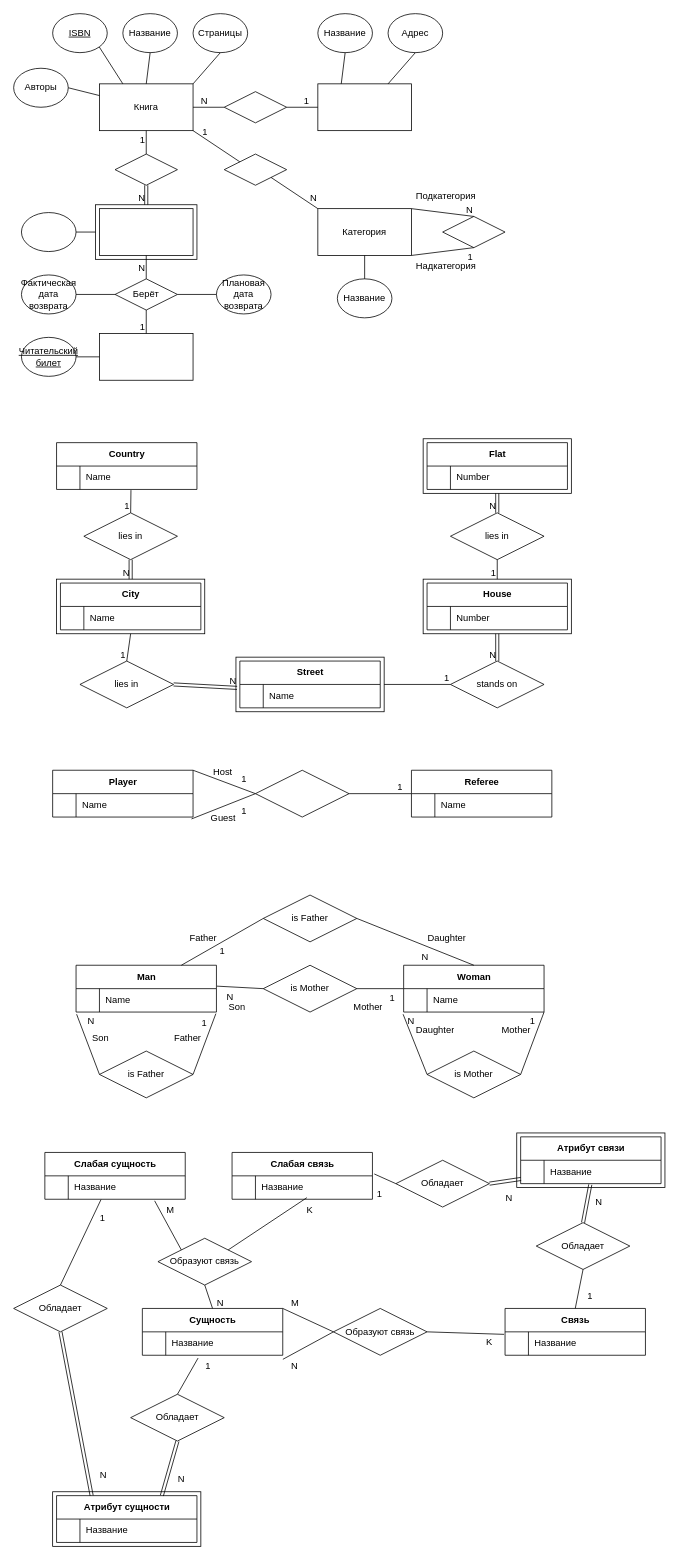
This 679x1560 diagram has some shape labels left out. The centre of each missing label's shape, as x and y in pixels:
"idBook" goes at point (48, 232).
"Match" goes at point (302, 793).
"Издательство" goes at point (364, 107).
"Издаёт" goes at point (255, 107).
"Имеет" goes at point (145, 169).
"Копия" goes at point (146, 231).
"Принадлежит" goes at point (255, 169).
"Читатель" goes at point (146, 356).
"Является Надкатегорией" goes at point (473, 232).
